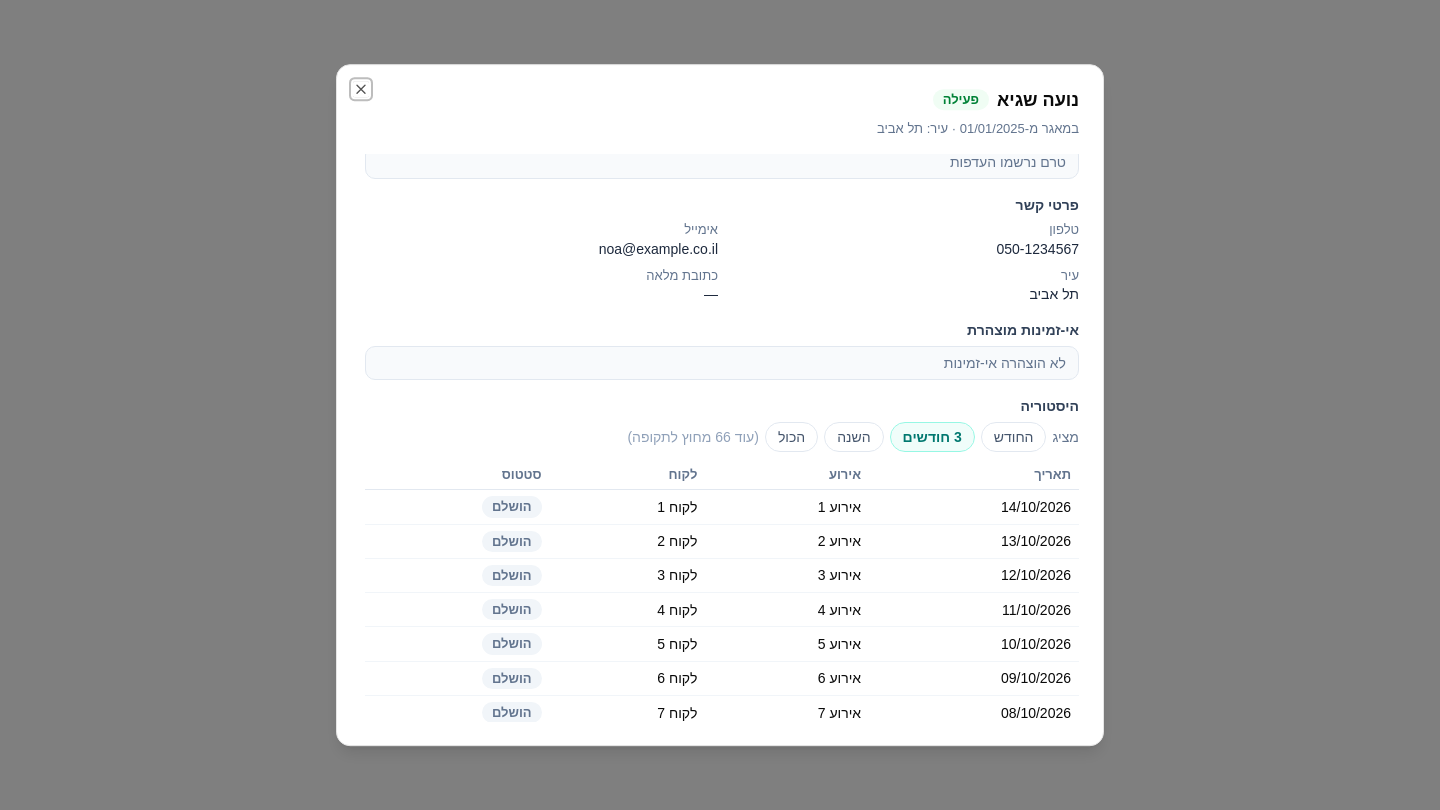
כרטיס-דיילת — חלון-זמן + דפדוף על ההיסטוריה › 156 שורות-היסטוריה (מקרה אמיתי בדיילת אחת) — "הכול" מציג עמוד ראשון של 50 עם דפדוף
The width and height of the screenshot is (1440, 810).
(page scrolled)
Expected: the heading "נועה שגיא פעילה" is shown, left=933, top=89, right=1079, bottom=110
Click the button with test id "list-window-all".
click(792, 437)  # box left=765, top=422, right=818, bottom=452
(page scrolled)
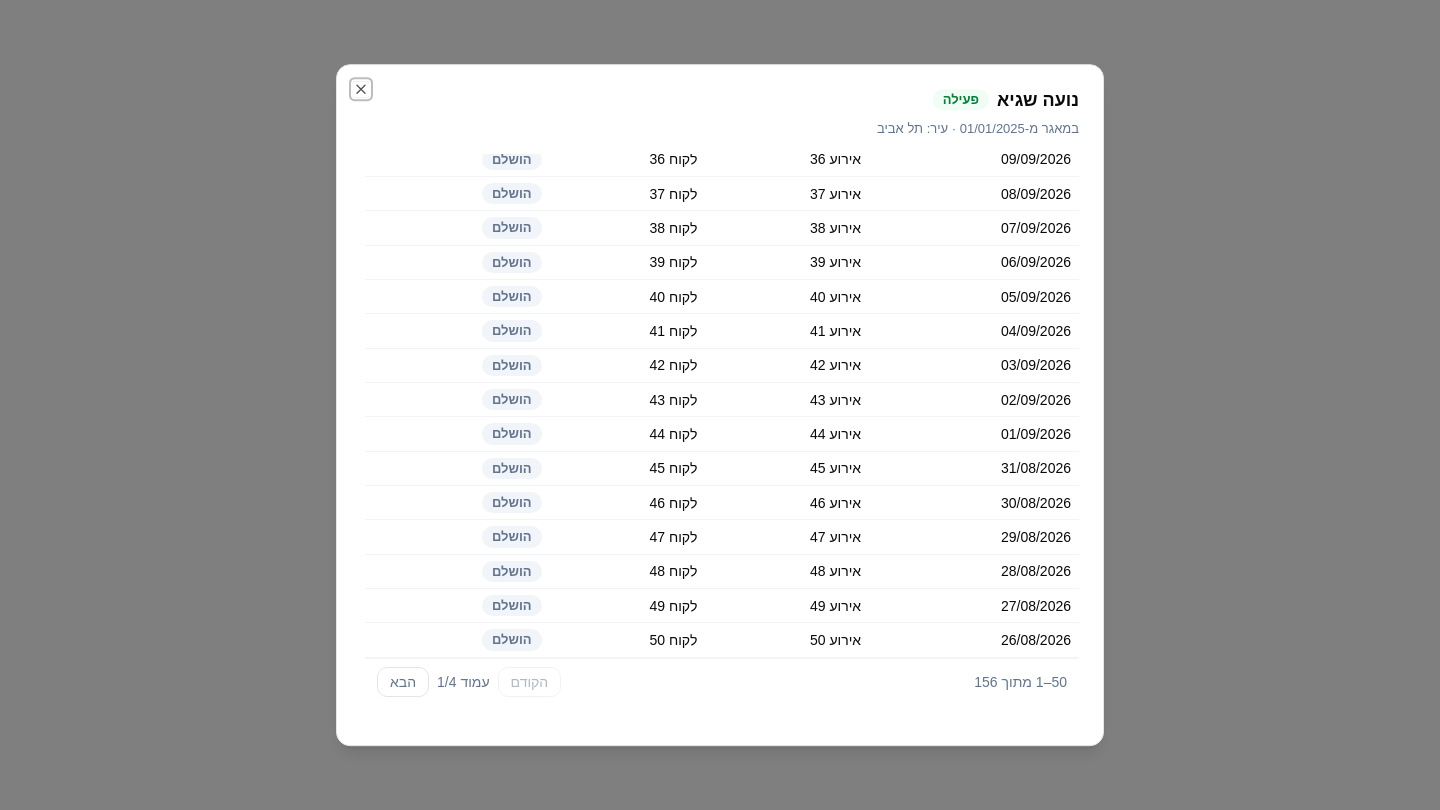
Result: the element with test id "list-pager" is shown at left=365, top=658, right=1079, bottom=705
Result: the element with test id "list-pager-range" shows "1–50" at left=974, top=672, right=1067, bottom=692
Result: the element with test id "list-pager-range" shows "156" at left=974, top=674, right=998, bottom=690
